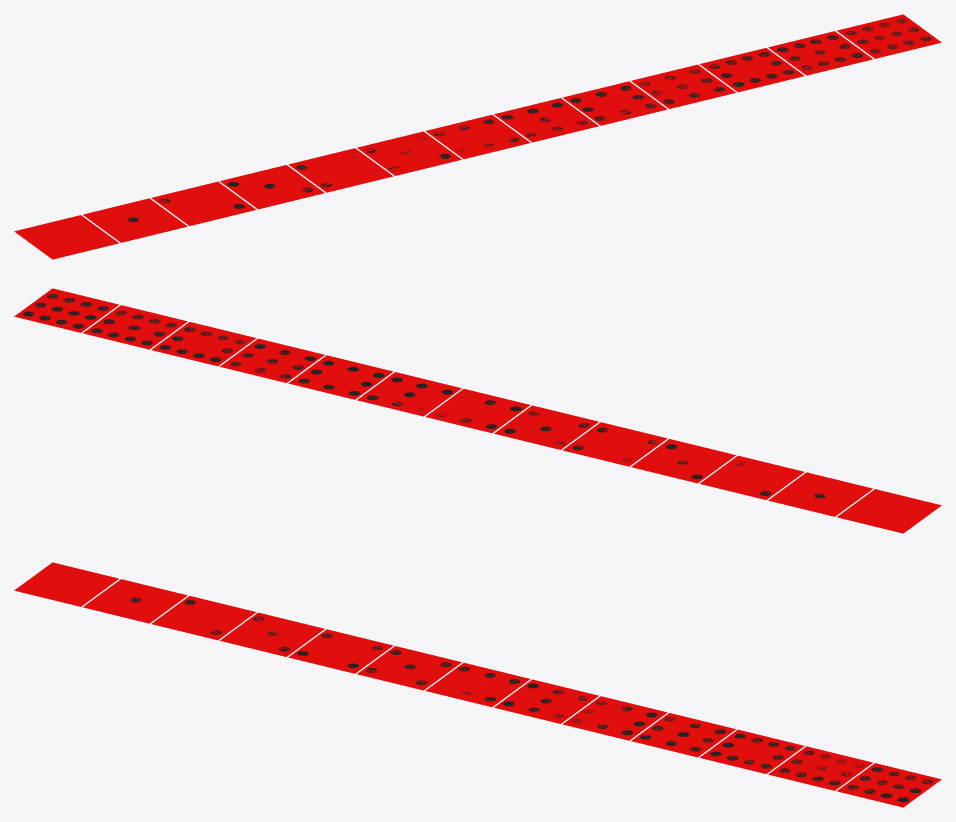
3 renders of one model, top to bottom at view 1: azimuth 30°, elevation 25°; view 2: azimuth 150°, elevation 25°; view 3: azimuth 330°, elevation 25°, orthographic.
Visible parts, largest first — view 1: rect31, rect1, rect28, rect16, rect4, rect10, rect25, rect1-3, rect20, rect1-1, rect1-3-6, rect1-3-7 (+1 smaller); view 2: rect31, rect28, rect25, rect16, rect10, rect20, rect4, rect1-3, rect1-1-8, rect1-1, rect1-3-6, rect1 (+1 smaller); view 3: rect31, rect20, rect28, rect25, rect16, rect1-1, rect10, rect4, rect1-3-6, rect1-3-7, rect1-3, rect1-1-8 (+1 smaller).
Boxes of the visible parts, box(x1,y1,x2,y2) form: rect31: box(14, 215, 118, 259); rect1: box(837, 14, 941, 58); rect28: box(83, 198, 187, 242); rect16: box(288, 148, 393, 192); rect4: box(425, 115, 530, 158); rect10: box(357, 131, 461, 175); rect25: box(151, 181, 256, 225); rect1-3: box(631, 64, 735, 108); rect20: box(220, 165, 324, 209); rect1-1: box(768, 31, 872, 75); rect1-3-6: box(494, 98, 598, 142); rect1-3-7: box(562, 81, 667, 125); rect31: box(837, 489, 941, 533); rect28: box(768, 472, 872, 516); rect25: box(699, 455, 804, 499); rect16: box(562, 422, 667, 466); rect10: box(494, 405, 598, 449); rect20: box(631, 439, 735, 483); rect4: box(425, 389, 530, 432); rect1-3: box(220, 338, 324, 382); rect1-1-8: box(151, 322, 256, 366); rect1-1: box(83, 305, 187, 349); rect1-3-6: box(357, 372, 461, 416); rect1: box(14, 288, 118, 332); rect31: box(14, 562, 118, 606); rect20: box(220, 612, 324, 656); rect28: box(83, 579, 187, 623); rect25: box(151, 596, 256, 640); rect16: box(288, 629, 393, 673); rect1-1: box(768, 746, 872, 790); rect10: box(357, 646, 461, 690); rect4: box(425, 663, 530, 706); rect1-3-6: box(494, 679, 598, 723); rect1-3-7: box(562, 696, 667, 740); rect1-3: box(631, 713, 735, 757); rect1-1-8: box(699, 729, 804, 773).
Size of the model in its own units: 1.41 by 0 by 0.1058.
